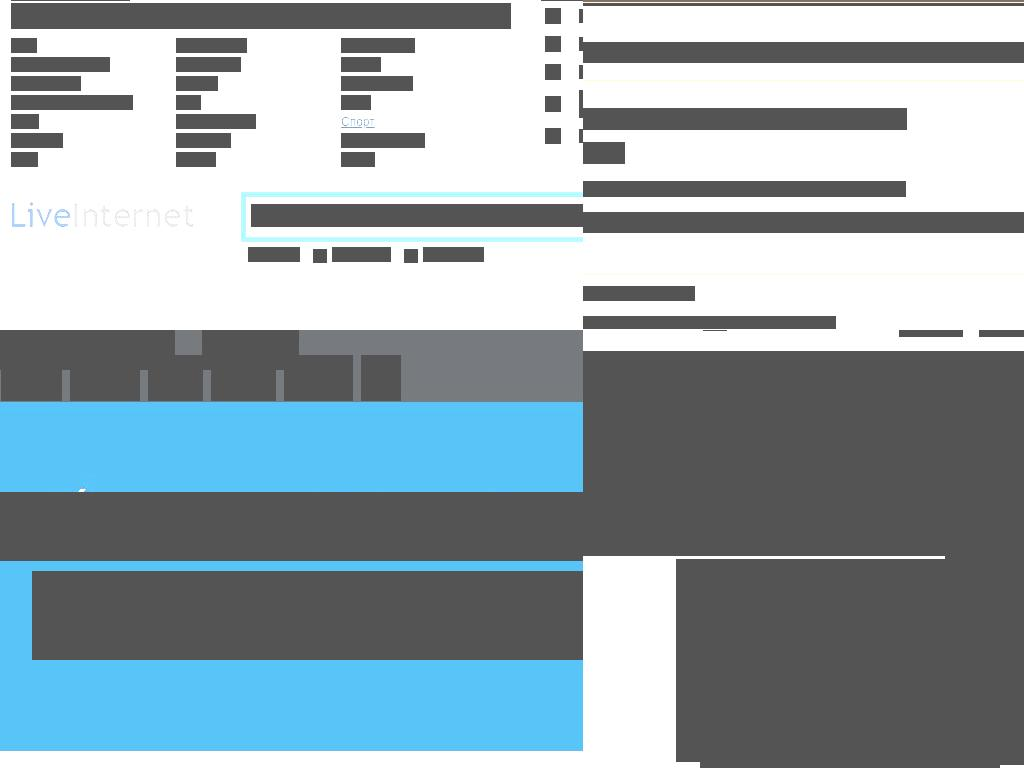button: (700, 665, 1000, 768), (805, 723, 895, 759), (70, 355, 140, 401), (284, 355, 353, 401), (211, 355, 276, 401), (1, 355, 62, 401), (148, 355, 203, 401), (361, 355, 401, 401)
field: (251, 204, 583, 227), (583, 108, 907, 130), (583, 142, 625, 164), (313, 249, 327, 263), (404, 249, 418, 263)
heading: (583, 424, 945, 468), (583, 42, 1024, 63), (0, 330, 175, 370), (202, 330, 299, 370)
image: (676, 351, 882, 556), (676, 559, 882, 762), (700, 665, 1000, 768), (881, 559, 1024, 765), (881, 351, 1024, 556), (583, 351, 677, 556), (945, 415, 1024, 601), (583, 3, 1024, 6), (545, 8, 561, 24), (545, 36, 561, 52), (545, 64, 561, 80), (545, 96, 561, 112), (545, 128, 561, 144)
label: (423, 247, 484, 262), (332, 247, 391, 262)
link: (11, 95, 133, 110), (583, 286, 695, 301), (11, 57, 110, 72), (341, 133, 425, 148), (176, 114, 256, 129), (341, 38, 415, 53), (341, 76, 413, 91), (176, 38, 247, 53), (11, 76, 81, 91), (176, 57, 241, 72), (176, 133, 231, 148), (11, 133, 63, 148), (176, 76, 218, 91), (176, 152, 216, 167), (341, 57, 381, 72), (341, 114, 375, 129), (341, 152, 375, 167), (341, 95, 371, 110), (11, 114, 39, 129), (11, 152, 38, 167), (11, 38, 37, 53), (176, 95, 201, 110)
text: (32, 571, 583, 660), (0, 492, 583, 561), (583, 484, 945, 532), (11, 3, 511, 29), (583, 212, 1024, 233), (583, 181, 906, 197), (583, 316, 836, 329), (821, 732, 879, 750), (248, 247, 300, 262)
